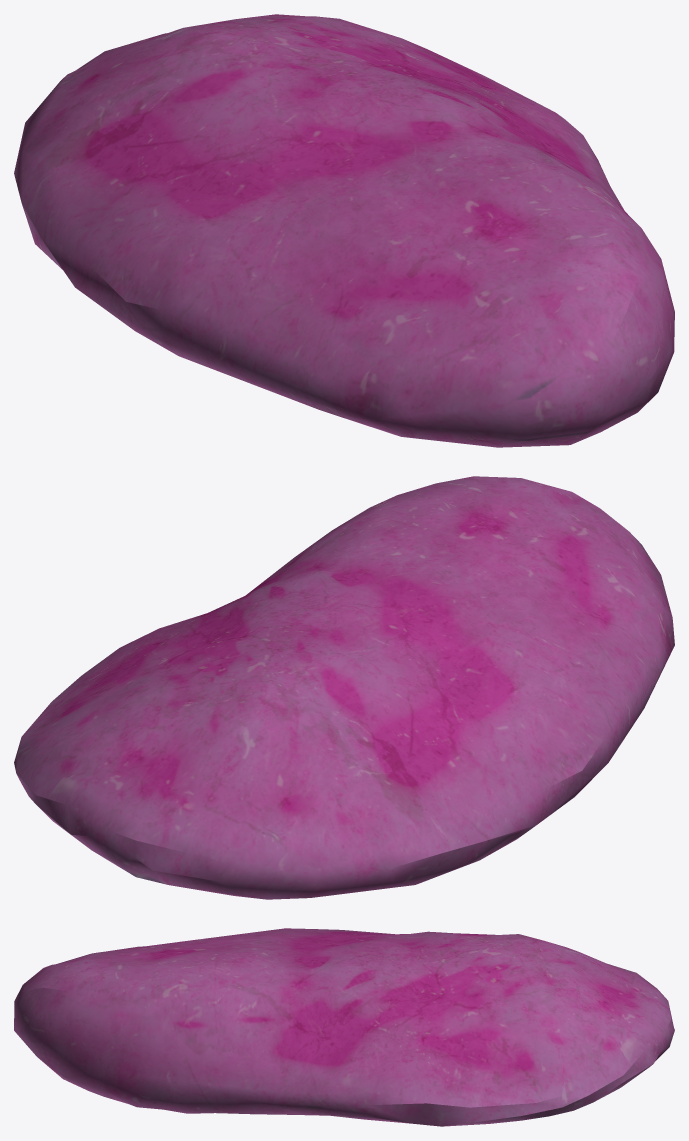
Rendered from qwarc.fbx.
3 views of the same model, one above another, from view 1: azimuth 30°, elevation 25°; view 2: azimuth 150°, elevation 25°; view 3: azimuth 270°, elevation 25° (orthographic). The views are drawn at different scales.
Visible parts, largest first — view 1: qwarc; view 2: qwarc; view 3: qwarc.
Part boxes in pixels (x1,y1,x2,y2): qwarc: (14, 14, 674, 447); qwarc: (14, 476, 674, 899); qwarc: (14, 928, 674, 1126).
Size of the model in its own units: 94.82 by 35.12 by 157.
